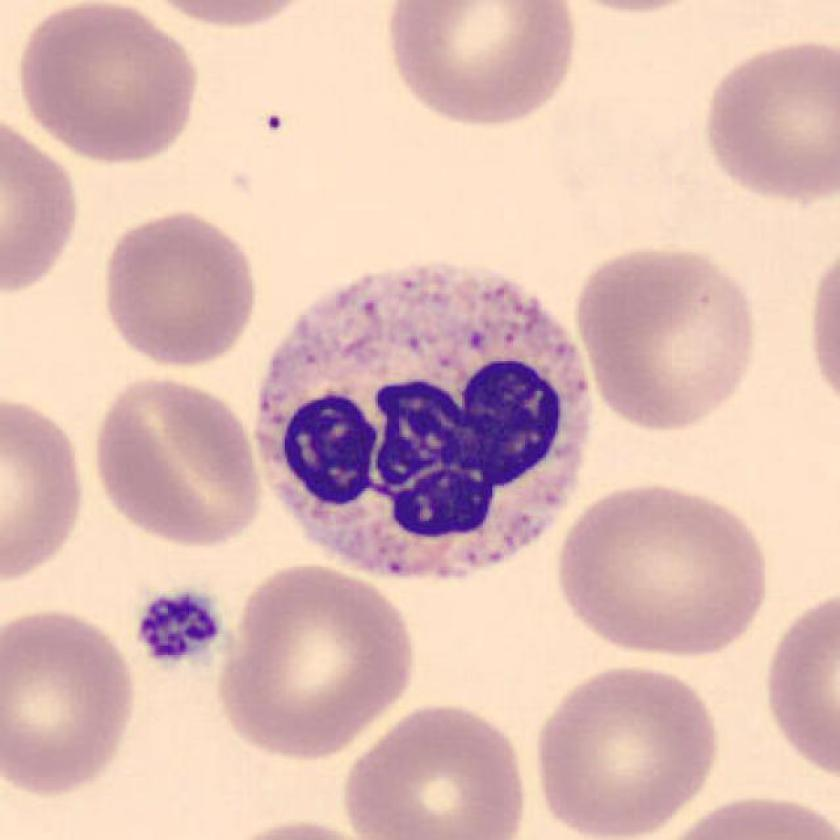neutrophil: (261, 263, 594, 580)
